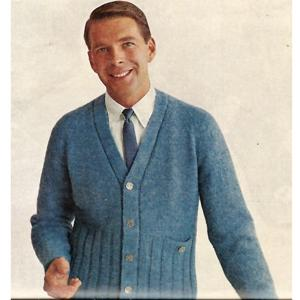C_cardigan sweater: (32, 99, 271, 300)
